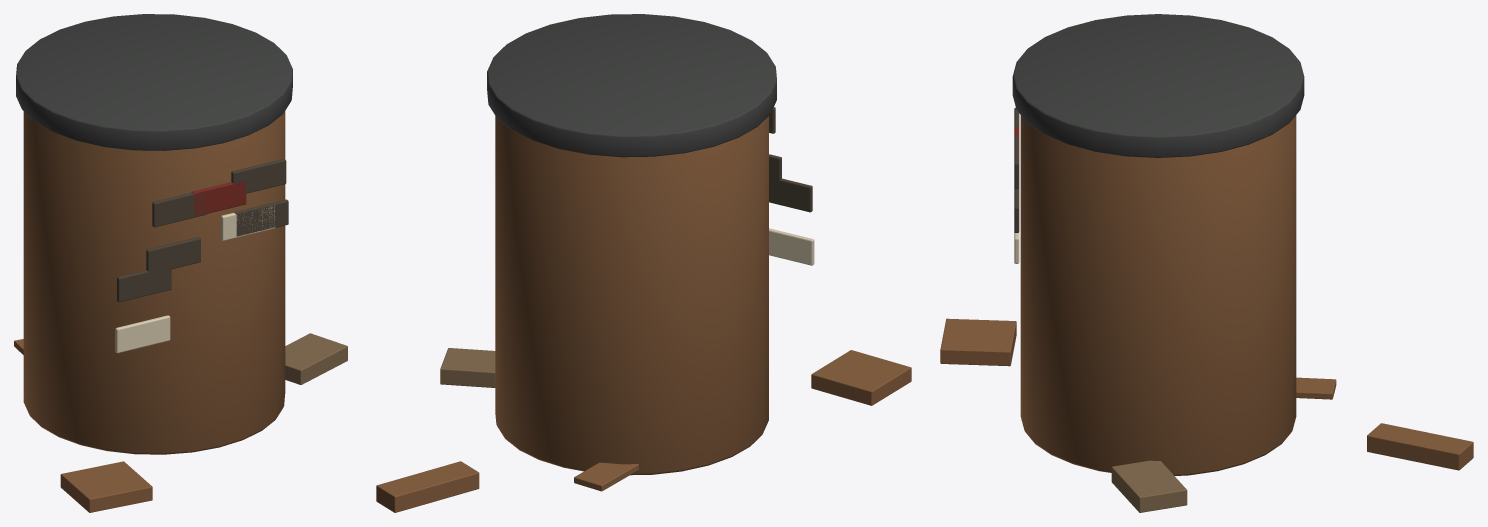
File: dz_urban_trash_can_overflow_premium.glb
The picture shows the model from 3 angles, left to right: view 1: azimuth 30°, elevation 25°; view 2: azimuth 150°, elevation 25°; view 3: azimuth 270°, elevation 25°; orthographic projection. The views are drawn at different scales.
Visible parts, largest first — view 1: round_overflow_trash_can, trash_rim_broken, trash_debris_04, trash_debris_03, trash_sticker_7, trash_sticker_2, trash_sticker_1, trash_sticker_0, trash_sticker_3, trash_sticker_4, trash_sticker_6, trash_sticker_5; view 2: round_overflow_trash_can, trash_rim_broken, trash_debris_04, trash_debris_01, trash_debris_03, trash_sticker_7, trash_debris_00, trash_sticker_3; view 3: round_overflow_trash_can, trash_rim_broken, trash_debris_04, trash_debris_01, trash_debris_03, trash_debris_00.
Boxes of the visible parts, <box> form: round_overflow_trash_can: <box>23,111,285,454</box>; trash_rim_broken: <box>16,14,292,150</box>; trash_debris_04: <box>60,461,152,512</box>; trash_debris_03: <box>285,333,347,384</box>; trash_sticker_7: <box>115,315,170,353</box>; trash_sticker_2: <box>146,237,200,274</box>; trash_sticker_1: <box>234,199,288,236</box>; trash_sticker_0: <box>191,181,246,216</box>; trash_sticker_3: <box>117,267,171,302</box>; trash_sticker_4: <box>152,192,206,227</box>; trash_sticker_6: <box>231,159,286,194</box>; trash_sticker_5: <box>221,205,275,240</box>; round_overflow_trash_can: <box>495,116,768,475</box>; trash_rim_broken: <box>487,14,776,157</box>; trash_debris_04: <box>811,350,911,405</box>; trash_debris_01: <box>376,461,479,512</box>; trash_debris_03: <box>440,348,495,387</box>; trash_sticker_7: <box>769,228,814,265</box>; trash_debris_00: <box>574,462,638,491</box>; trash_sticker_3: <box>769,178,812,212</box>; round_overflow_trash_can: <box>1020,115,1296,475</box>; trash_rim_broken: <box>1012,14,1304,157</box>; trash_debris_04: <box>940,318,1016,366</box>; trash_debris_01: <box>1367,423,1473,470</box>; trash_debris_03: <box>1111,460,1187,512</box>; trash_debris_00: <box>1296,377,1336,399</box>.
Size of the model in its own units: 1.05 by 0.94 by 1.32.
